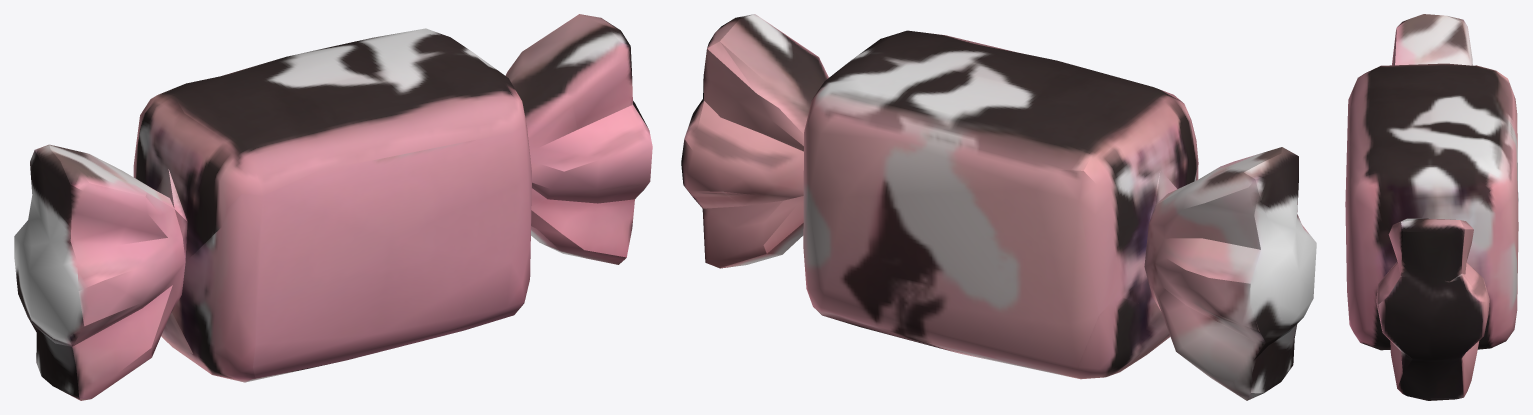
File: WrappedCandy.glb
3 views of the same model, side by side, from view 1: azimuth 30°, elevation 25°; view 2: azimuth 150°, elevation 25°; view 3: azimuth 270°, elevation 25° (orthographic). The views are drawn at different scales.
Parts seen in each view (by area): view 1: input; view 2: input; view 3: input.
Boxes of the visible parts, left/top/right/bottom form: input: left=14, top=14, right=652, bottom=400; input: left=681, top=14, right=1316, bottom=400; input: left=1345, top=14, right=1518, bottom=400.
Size of the model in its own units: 2.5 by 0.9642 by 0.7996.
Materials: 1 (1 with a texture image).
